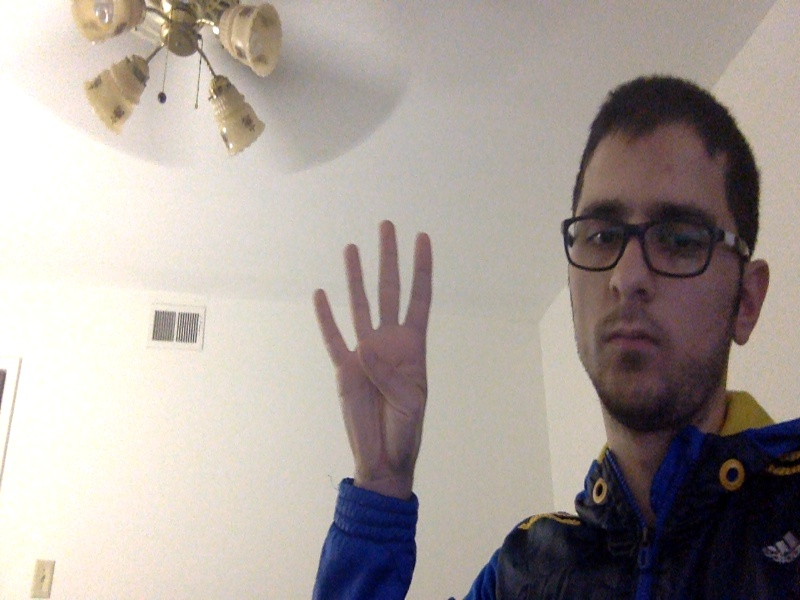4-hand: (312, 222, 435, 474)
